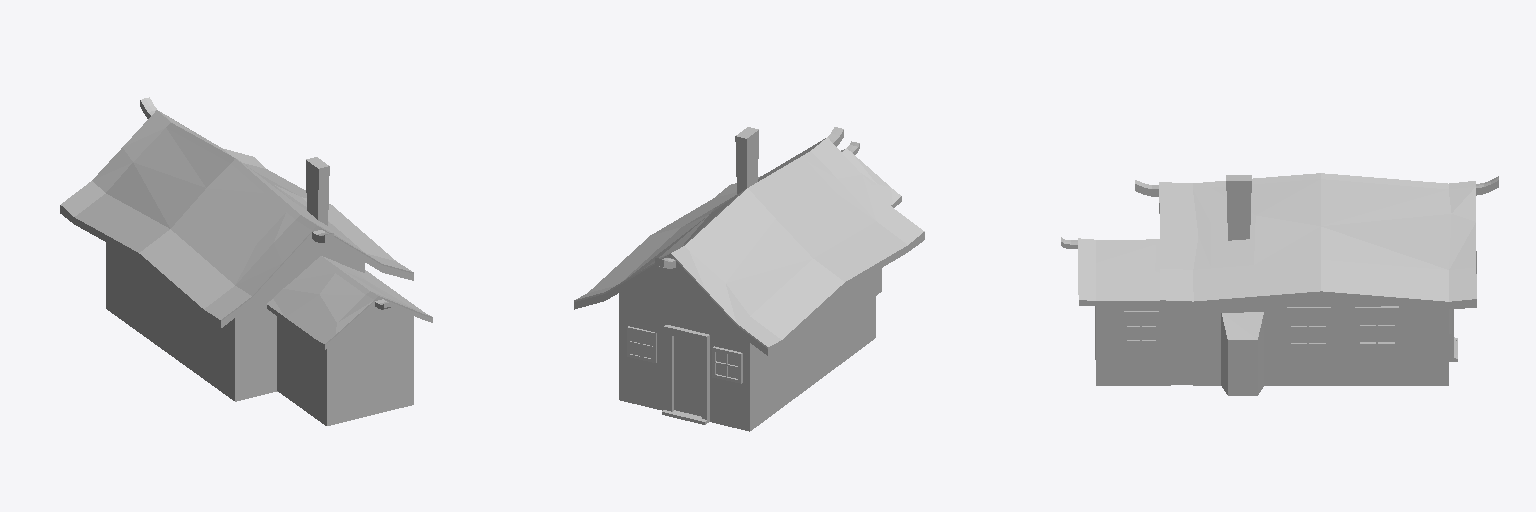
Rendered from House.obj.
The picture shows the model from 3 angles: view 1: azimuth 30°, elevation 25°; view 2: azimuth 150°, elevation 25°; view 3: azimuth 270°, elevation 25°; orthographic projection.
Parts seen in each view (by area): view 1: Cube_Cube.001; view 2: Cube_Cube.001; view 3: Cube_Cube.001.
Part boxes in pixels (x1,y1,x2,y2): Cube_Cube.001: (60,97,432,425); Cube_Cube.001: (574,127,924,431); Cube_Cube.001: (1061,173,1498,395).
Bounding box in the file's own units: 1.77 × 1.69 × 3.43.